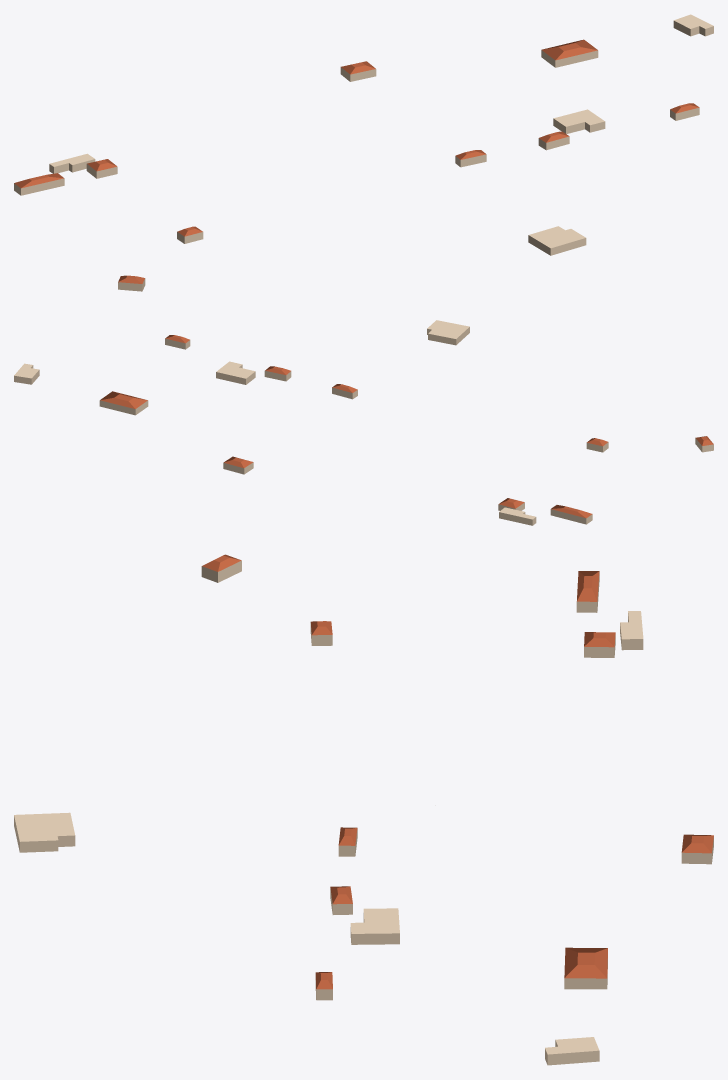
Rendered from msb_noord_m19_m18.glb.
3 renders of one model, top to bottom at view 1: azimuth 30°, elevation 25°; view 2: azimuth 150°, elevation 25°; view 3: azimuth 270°, elevation 25°, orthographic. The views are drawn at different scales.
Visible parts, largest first — view 1: msb_noord_m19_m18_lod0; view 2: msb_noord_m19_m18_lod0; view 3: msb_noord_m19_m18_lod0.
Part boxes in pixels (x1=…): msb_noord_m19_m18_lod0: x1=14, y1=14, x2=713, y2=291; msb_noord_m19_m18_lod0: x1=14, y1=320, x2=713, y2=525; msb_noord_m19_m18_lod0: x1=14, y1=554, x2=713, y2=1065.
Size of what is drawn, in the model's own units: 348 by 7.77 by 204.
